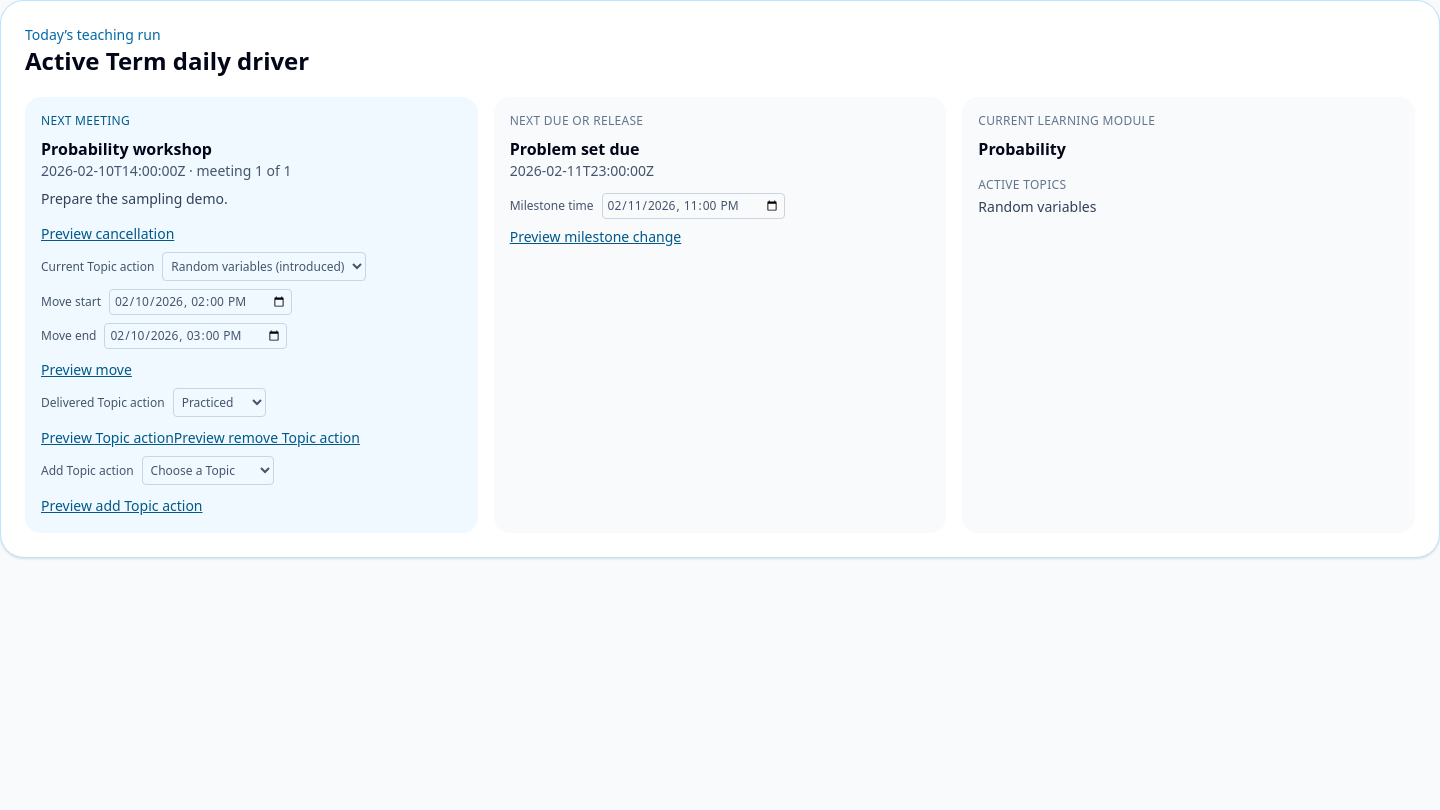
Test case: ActiveTermDailyDriver › keeps the correction panel available when apply fails
Click the button "Preview cancellation".
click(108, 234)  # box [41,224,174,244]
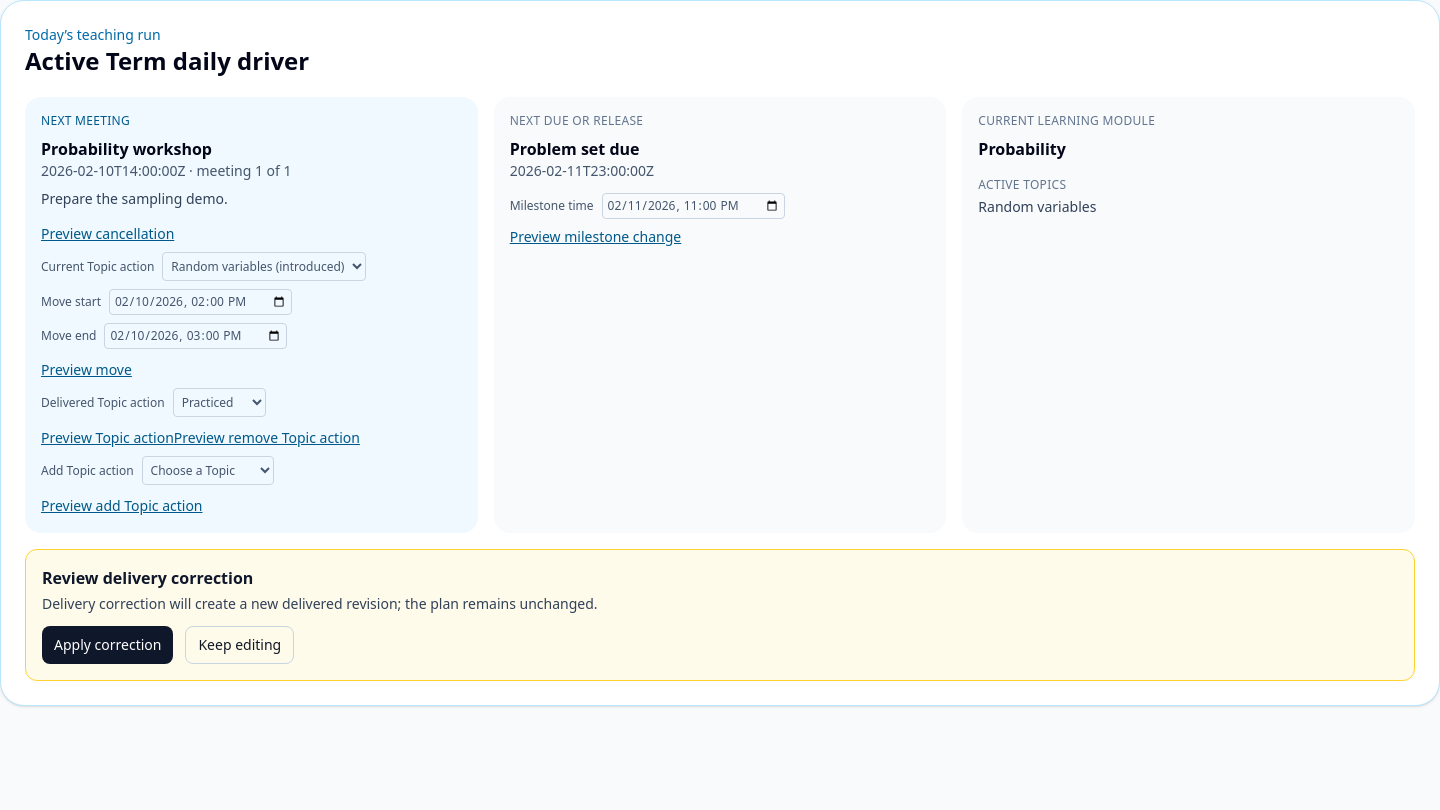
Expected: the button "Apply correction" is shown
Click the button "Apply correction".
click(108, 645)  # box [42,626,173,664]
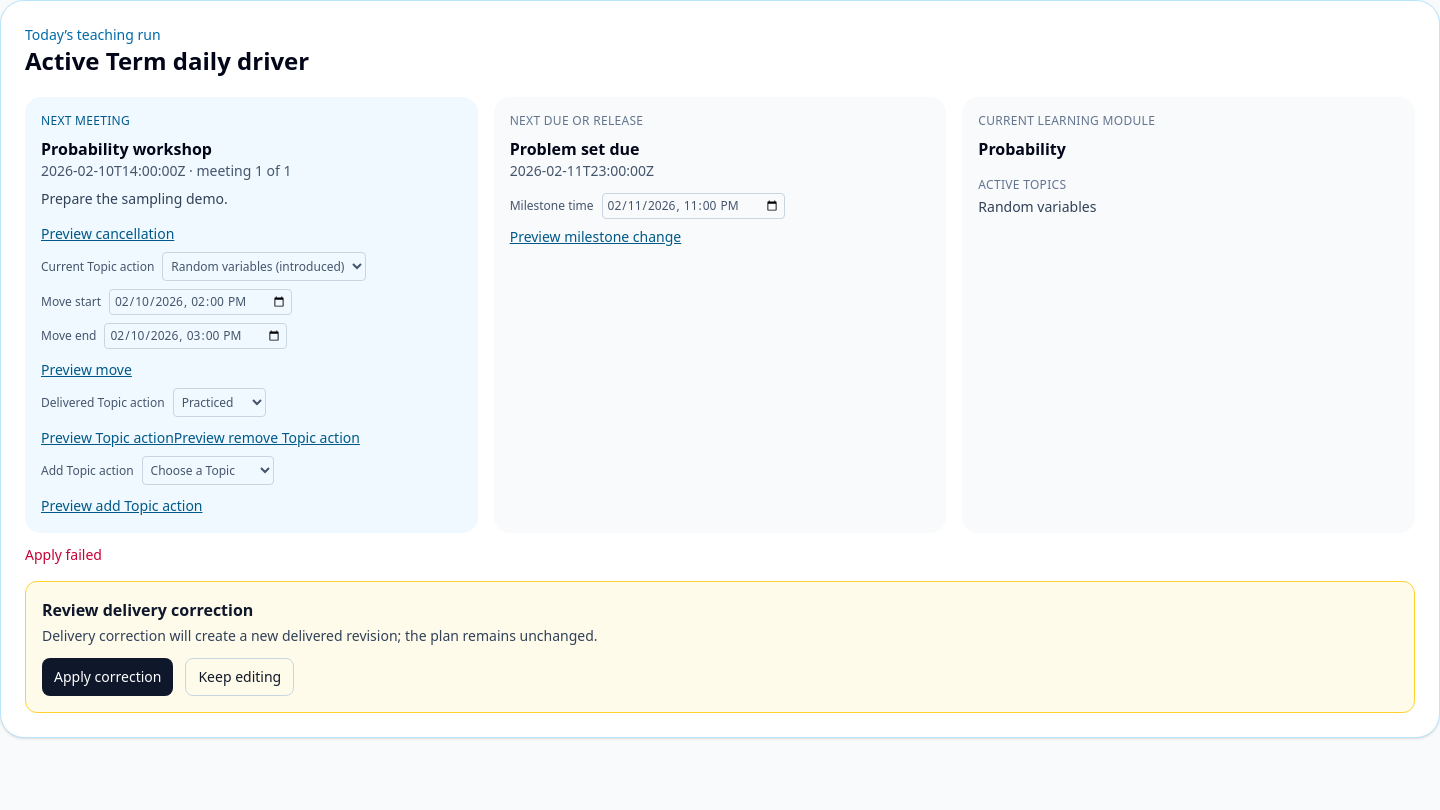
Expected: the button "Apply correction" is shown, [42,658,173,696]
Expected: the text "Apply failed" is shown, [25,545,102,564]
